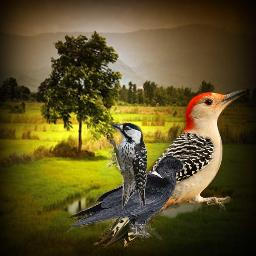Crow: (66, 155, 187, 241)
Woodpecker: (93, 89, 246, 253), (105, 122, 147, 210)
